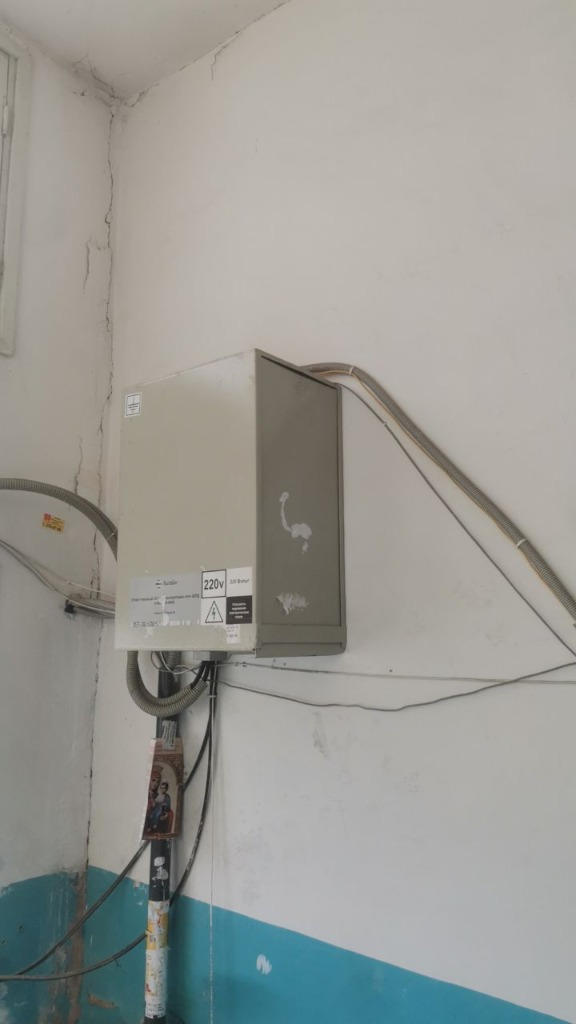sv-5: (107, 343, 352, 666)
